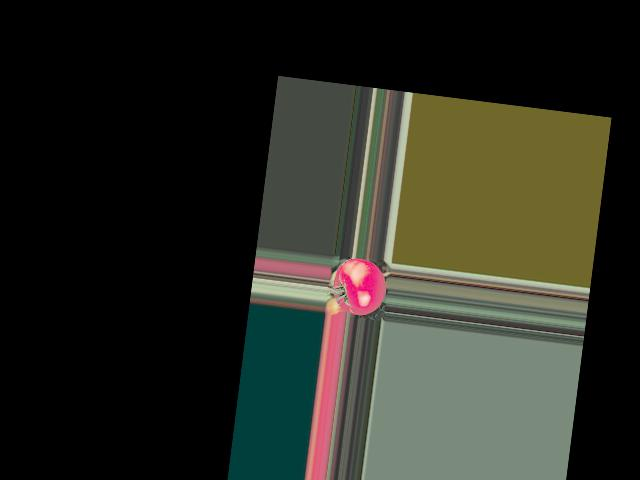tomato: (330, 255, 389, 317)
